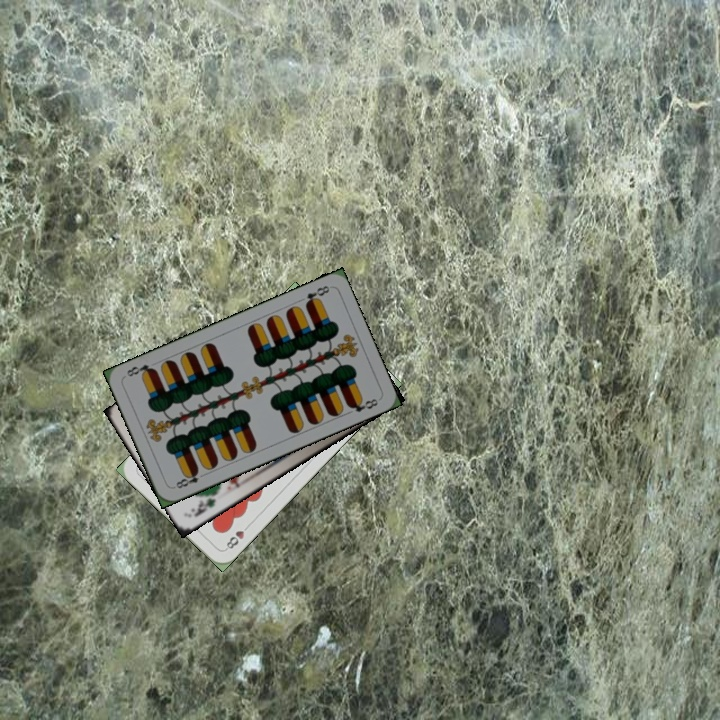E8: (169, 466, 208, 491), (301, 281, 332, 309)
GK: (186, 488, 220, 520)
H8: (221, 520, 253, 553)
